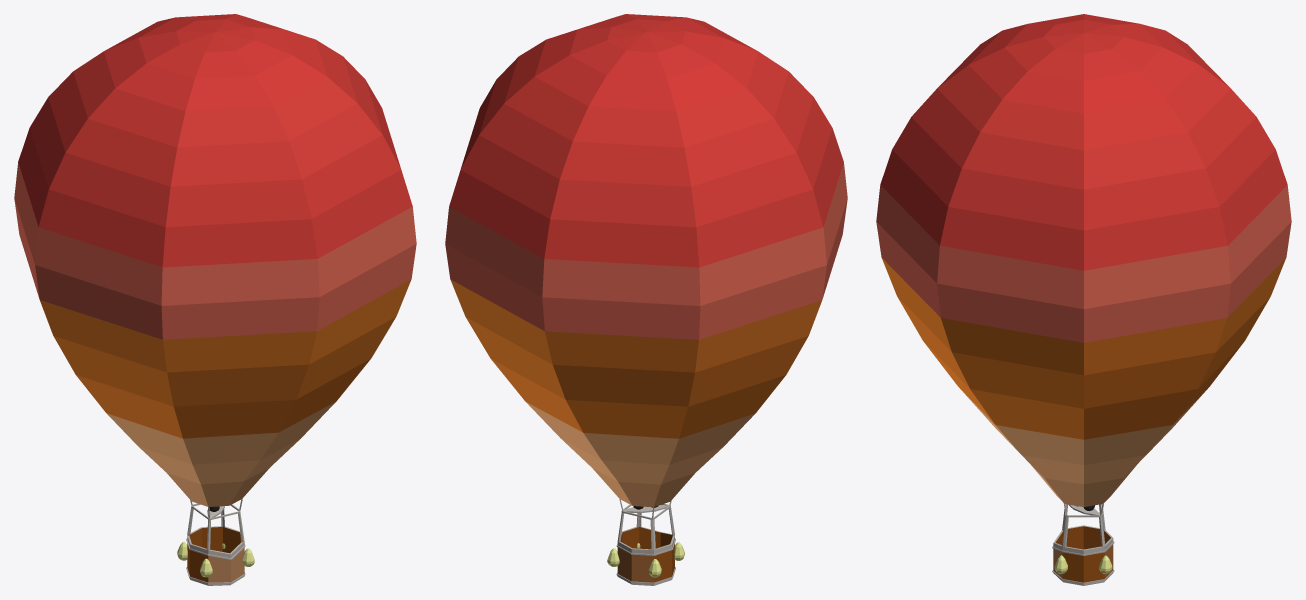
Rendered from balonudara2.fbx.
The picture shows the model from 3 angles, left to right: view 1: azimuth 30°, elevation 25°; view 2: azimuth 150°, elevation 25°; view 3: azimuth 270°, elevation 25°; orthographic projection.
Visible parts, largest first — view 1: Cube; view 2: Cube; view 3: Cube.
Boxes of the visible parts, x1,y1,x2,y2 form: Cube: [14, 14, 416, 585]; Cube: [445, 14, 847, 585]; Cube: [876, 14, 1291, 585].
Bounding box in the file's own units: 607 × 872 × 607.
